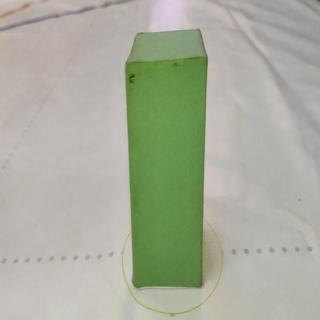greenbox: (124, 29, 209, 288)
